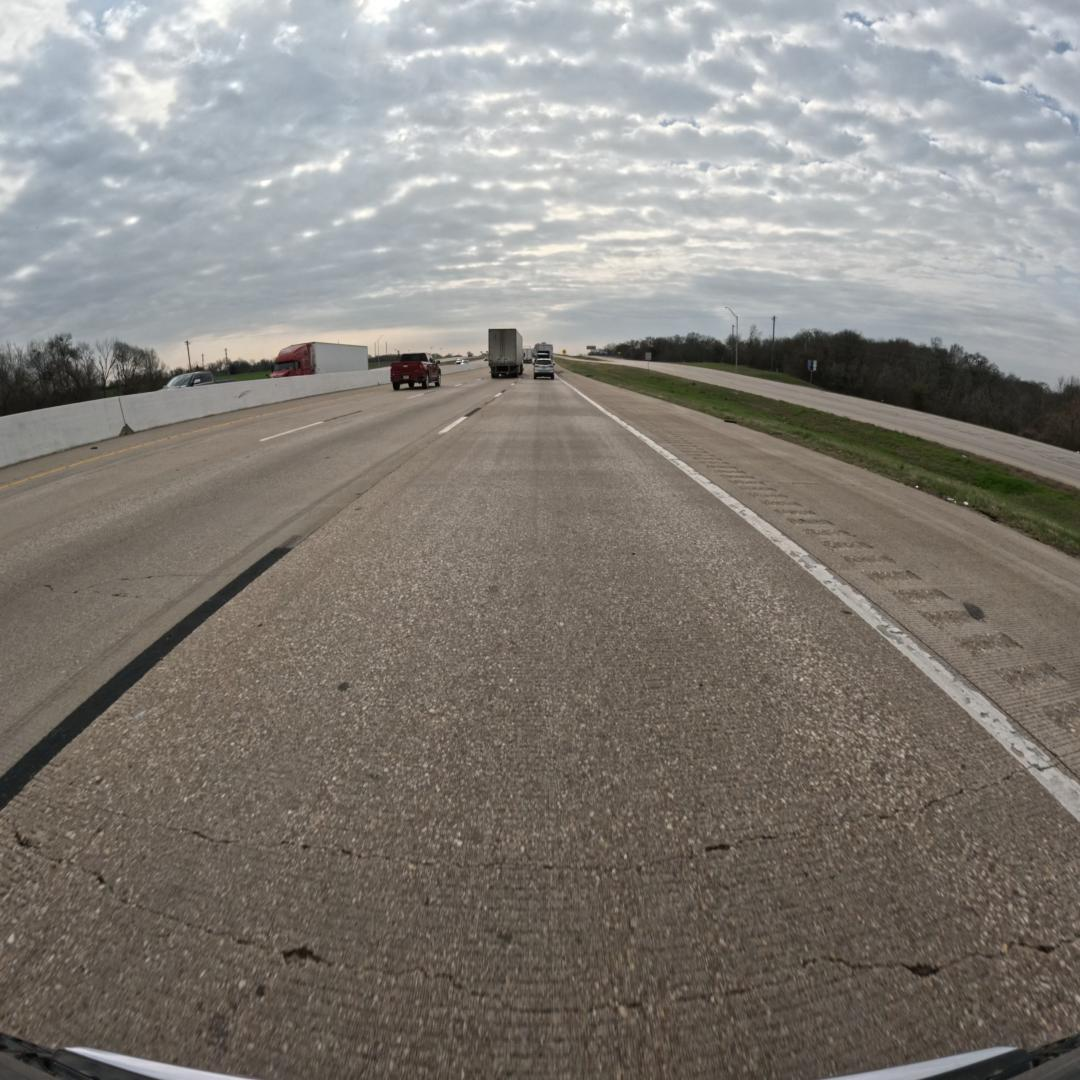lane0: (0, 380, 1080, 1076)
lane1: (0, 379, 517, 811)
